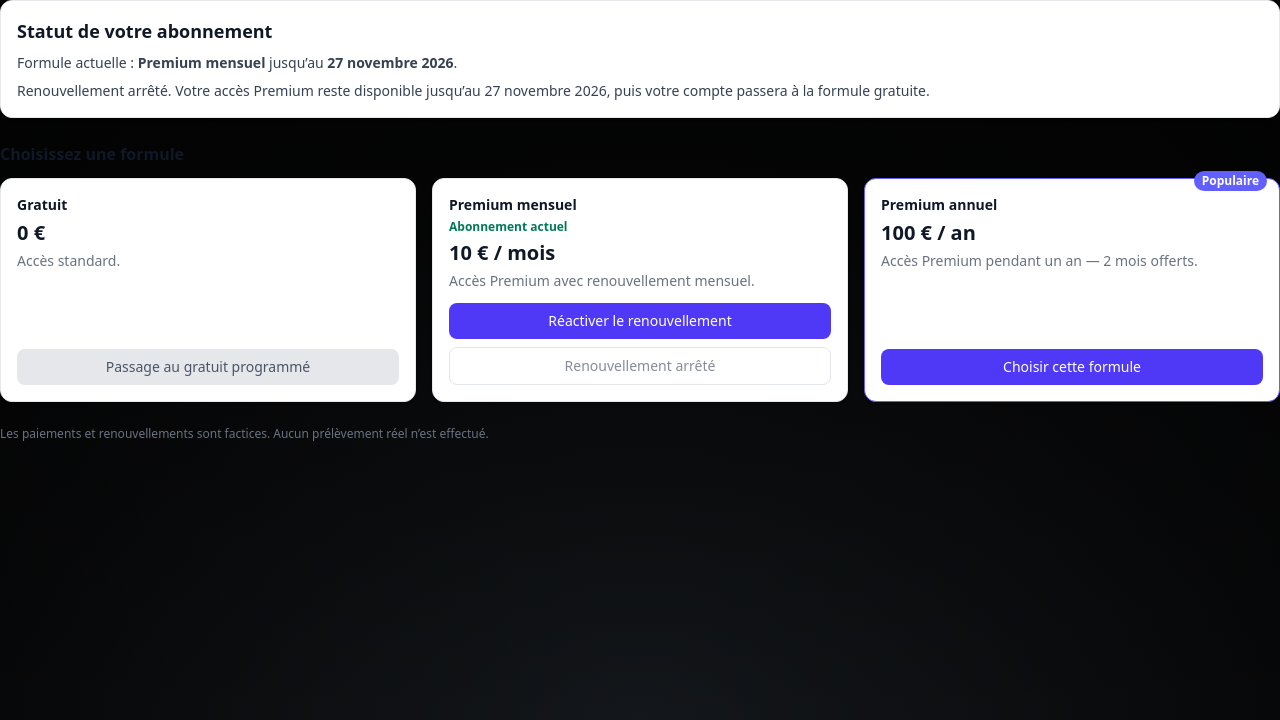
permet de réactiver le renouvellement après une résiliation
Click the button with aria-label "Réactiver le renouvellement : Premium mensuel" at point(640, 321), box [449,303,831,339]
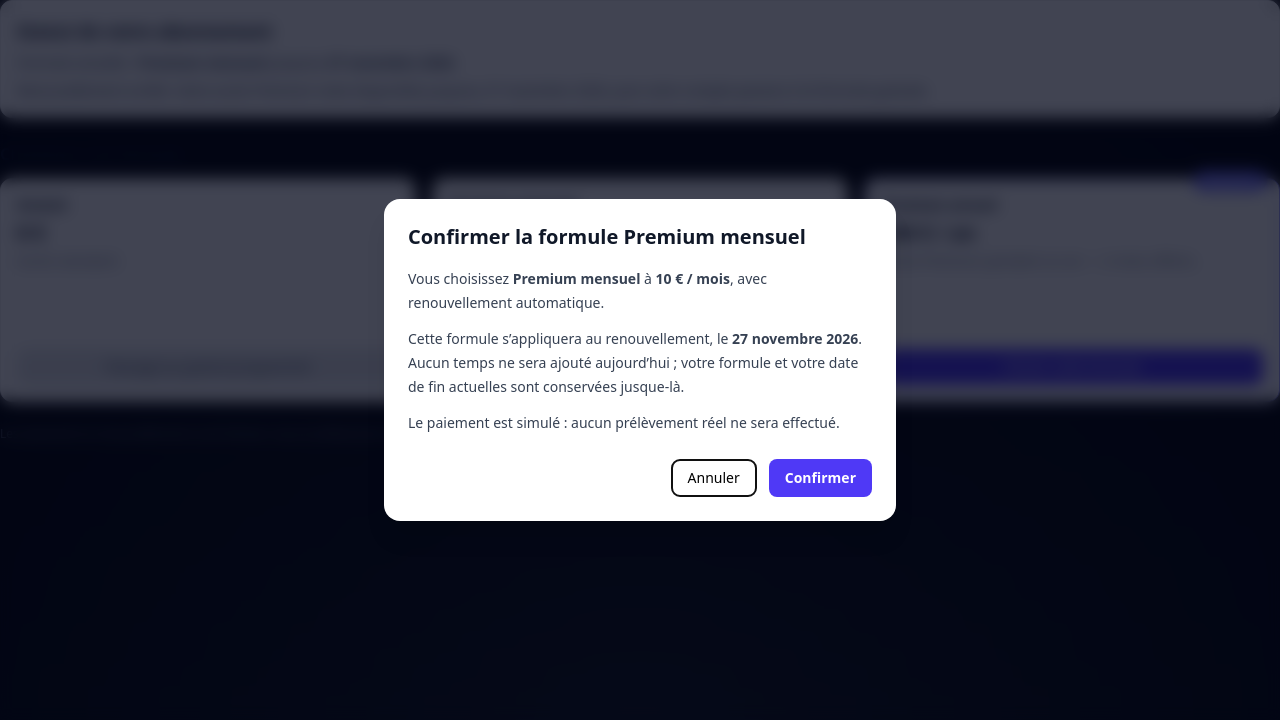
expect the button "Confirmer" is enabled: met, box [769,459,872,497]
expect the text "Aucun temps ne sera ajouté aujourd’hui" is shown: met, box [408,329,862,396]
